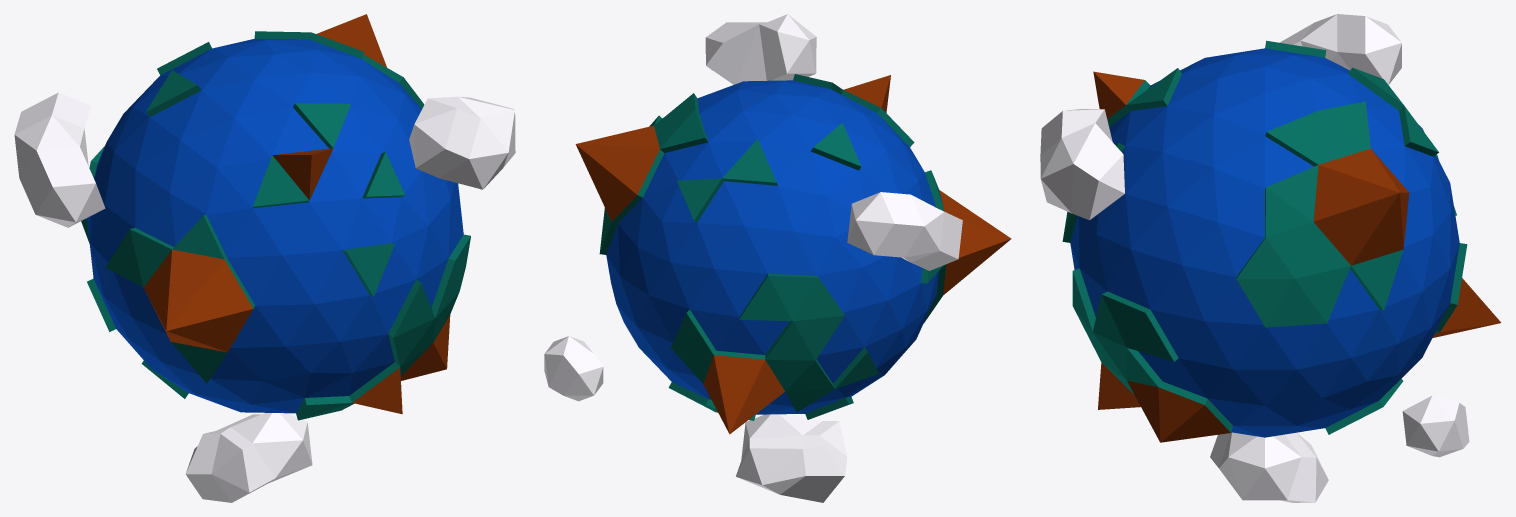
Rendered from Earth.fbx.
The picture shows the model from 3 angles, left to right: view 1: azimuth 30°, elevation 25°; view 2: azimuth 150°, elevation 25°; view 3: azimuth 270°, elevation 25°; orthographic projection. The views are drawn at different scales.
Visible parts, largest first — view 1: Icosphere; view 2: Icosphere; view 3: Icosphere.
Boxes of the visible parts, x1,y1,x2,y2 form: Icosphere: (14, 14, 515, 502); Icosphere: (544, 14, 1011, 502); Icosphere: (1040, 14, 1500, 502).
Bounding box in the file's own units: 242 × 254 × 237.
